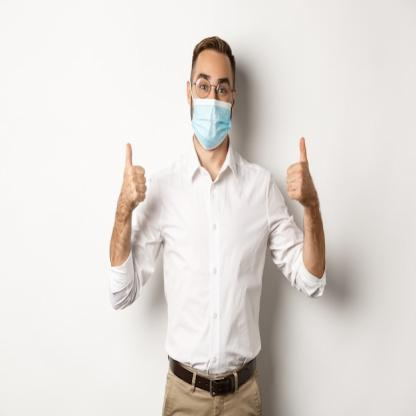thumb_up: (116, 138, 148, 212), (285, 132, 316, 206)
